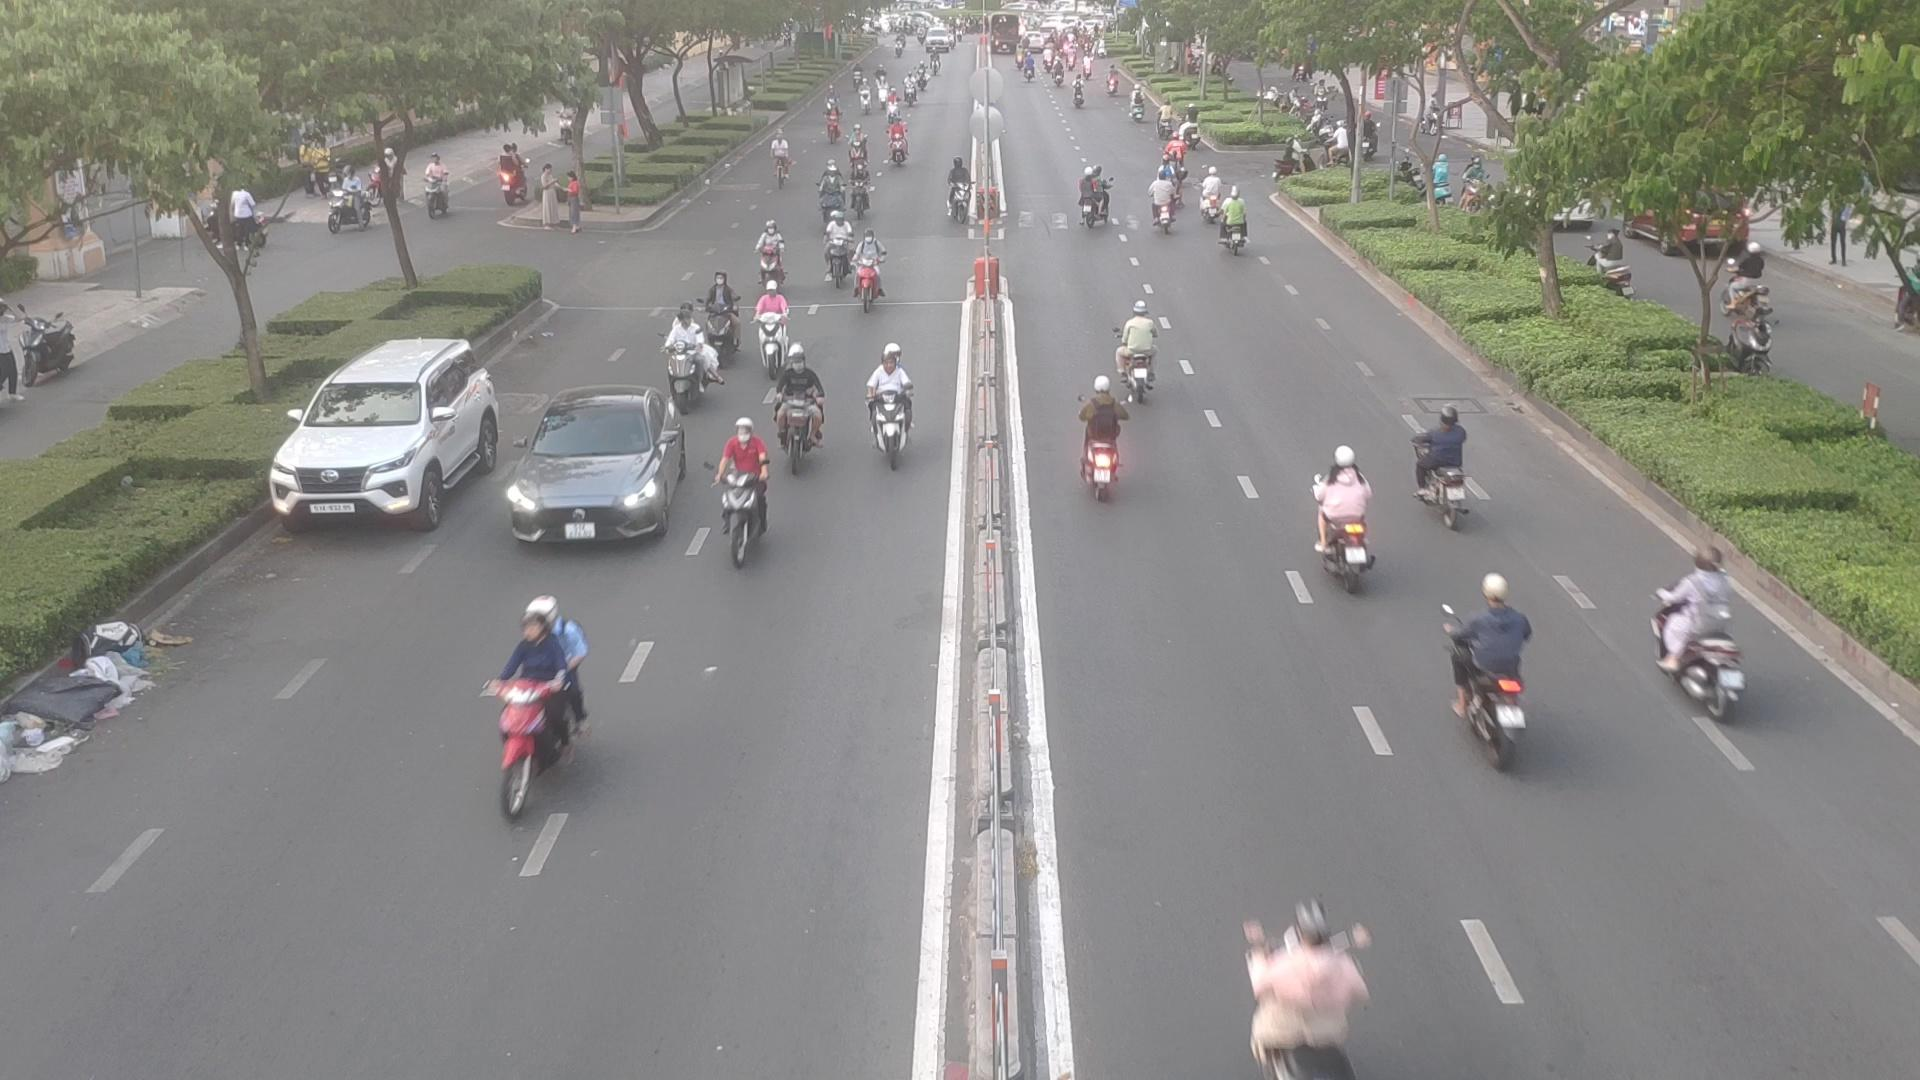car: (272, 338, 516, 531), (506, 390, 691, 547)
motorbike: (471, 601, 607, 812), (1238, 898, 1387, 1075), (1444, 582, 1540, 761), (1658, 560, 1759, 723), (1307, 454, 1378, 575), (1412, 400, 1477, 520), (1071, 380, 1131, 497), (858, 353, 918, 468), (777, 360, 835, 460), (1110, 307, 1167, 401), (723, 429, 766, 537), (659, 320, 715, 405), (756, 284, 804, 365), (698, 272, 745, 345), (1072, 167, 1114, 231), (1218, 195, 1258, 257), (819, 215, 849, 290), (940, 156, 969, 229), (1149, 167, 1182, 232), (855, 229, 884, 299), (882, 120, 913, 167), (760, 225, 785, 282), (851, 154, 873, 208), (822, 103, 844, 146), (849, 127, 868, 173), (1200, 171, 1215, 223)
